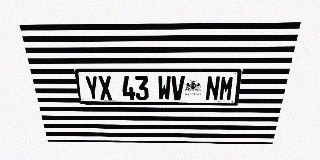3: (135, 76, 149, 100)
4: (121, 76, 136, 100)
M: (218, 76, 235, 101)
N: (205, 76, 221, 100)
V: (171, 76, 185, 100)
W: (158, 76, 171, 100)
X: (98, 76, 113, 100)
Y: (84, 76, 100, 100)
